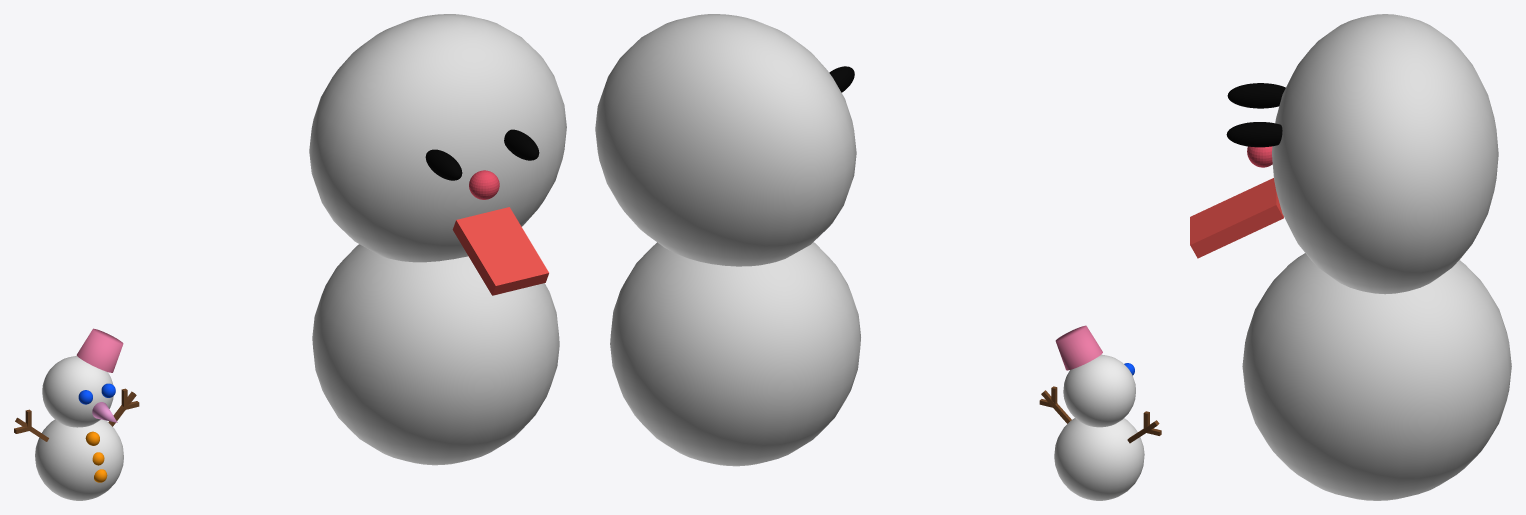
3 views of the same model, side by side, from view 1: azimuth 30°, elevation 25°; view 2: azimuth 150°, elevation 25°; view 3: azimuth 270°, elevation 25° (orthographic). The views are drawn at different scales.
Visible parts, largest first — view 1: 球.008, 球.007, 球, 立方体.001, 球.001, 円柱, 球.009, 球.010, 球.011; view 2: 球.008, 球.007, 球, 球.001, 円柱; view 3: 球.007, 球.008, 立方体.001, 球.010, 球.009, 球.011.
Part boxes in pixels (left/top/right/bottom): 球.008: left=309, top=14, right=566, bottom=262; 球.007: left=312, top=244, right=559, bottom=465; 球: left=35, top=419, right=123, bottom=500; 立方体.001: left=452, top=207, right=548, bottom=295; 球.001: left=42, top=356, right=113, bottom=427; 円柱: left=76, top=328, right=123, bottom=372; 球.009: left=425, top=149, right=462, bottom=180; 球.010: left=504, top=129, right=539, bottom=160; 球.011: left=469, top=170, right=499, bottom=199; 球.008: left=595, top=14, right=856, bottom=266; 球.007: left=610, top=242, right=860, bottom=466; 球: left=1054, top=418, right=1144, bottom=500; 球.001: left=1063, top=354, right=1135, bottom=427; 円柱: left=1055, top=325, right=1102, bottom=370; 球.007: left=1242, top=253, right=1511, bottom=500; 球.008: left=1272, top=14, right=1498, bottom=294; 立方体.001: left=1190, top=178, right=1283, bottom=258; 球.010: left=1226, top=122, right=1282, bottom=147; 球.009: left=1227, top=83, right=1285, bottom=108; 球.011: left=1247, top=146, right=1272, bottom=167.
Size of the model in its own units: 14.07 by 10.54 by 6.63.
